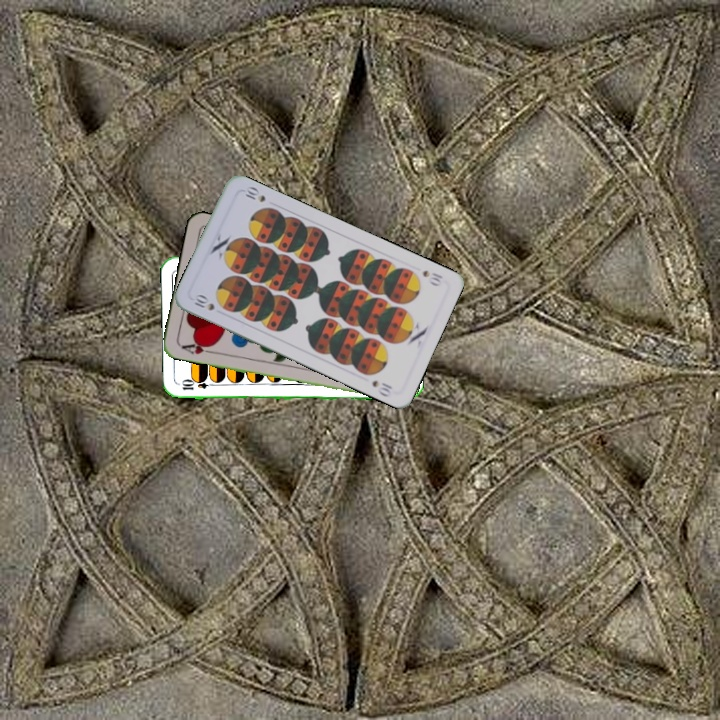E10: (178, 378, 218, 393)
HA: (178, 338, 217, 357)
S10: (419, 266, 446, 289), (190, 292, 217, 313)
